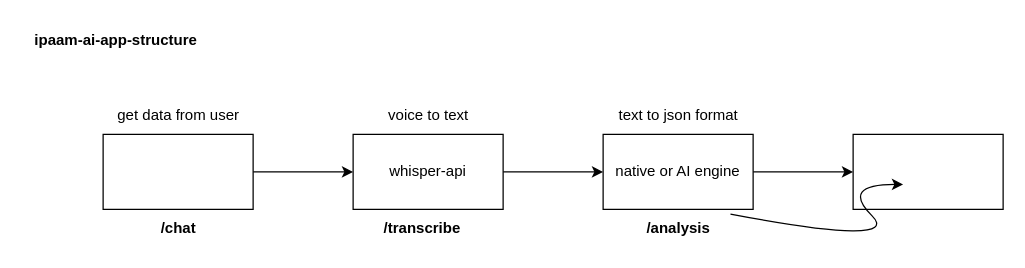
Image size: 1025x268. Some labels were removed from this diagram. The centre of each missing label's shape, as x and y in pixels:
call specific api for action: point 927,171
spring-ai-app: point 177,171
